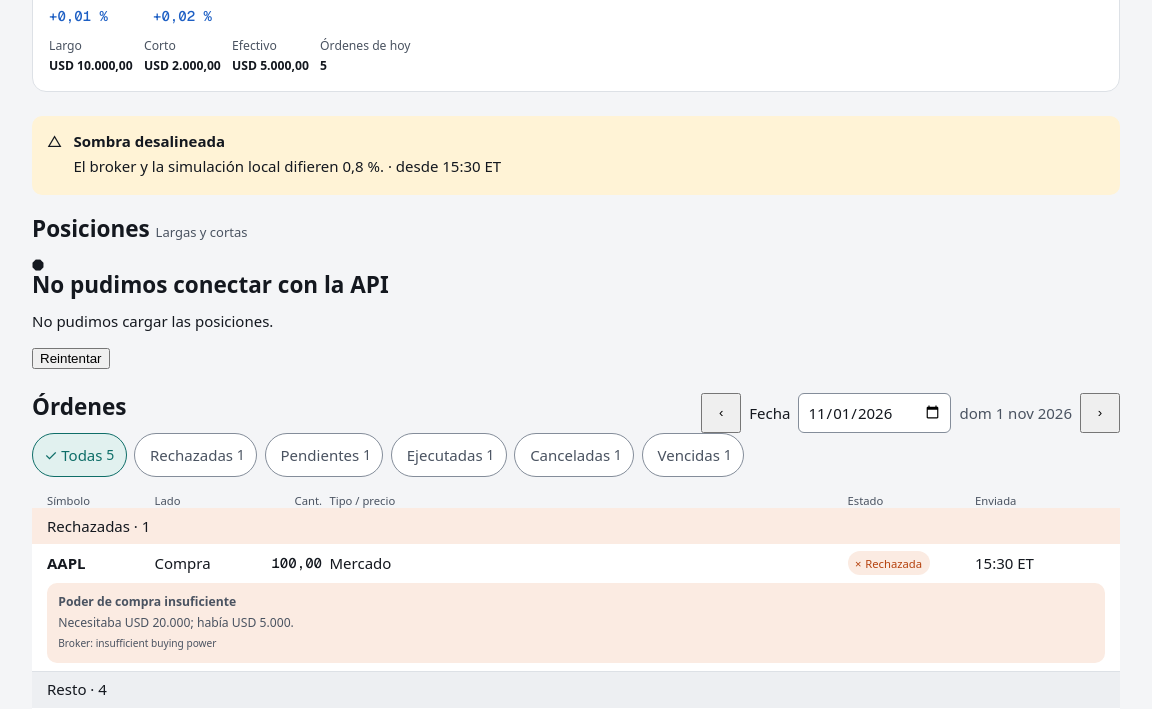
Test: Cuenta › reintenta solo posiciones después de un error de red
This screenshot has width=1152, height=709.
(page scrolled)
Click the button "Reintentar" at [71, 358], box x1=32 y1=348 x2=110 y2=368
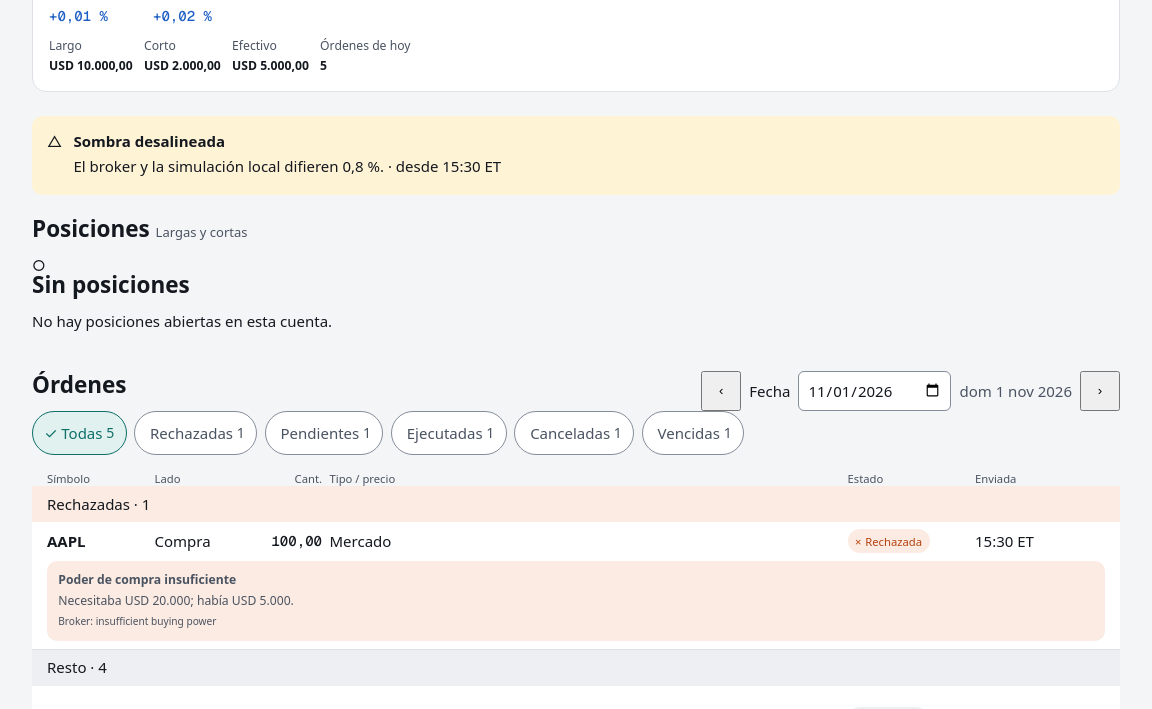
Expected: the heading "Sin posiciones" is shown, x1=32 y1=269 x2=190 y2=300
